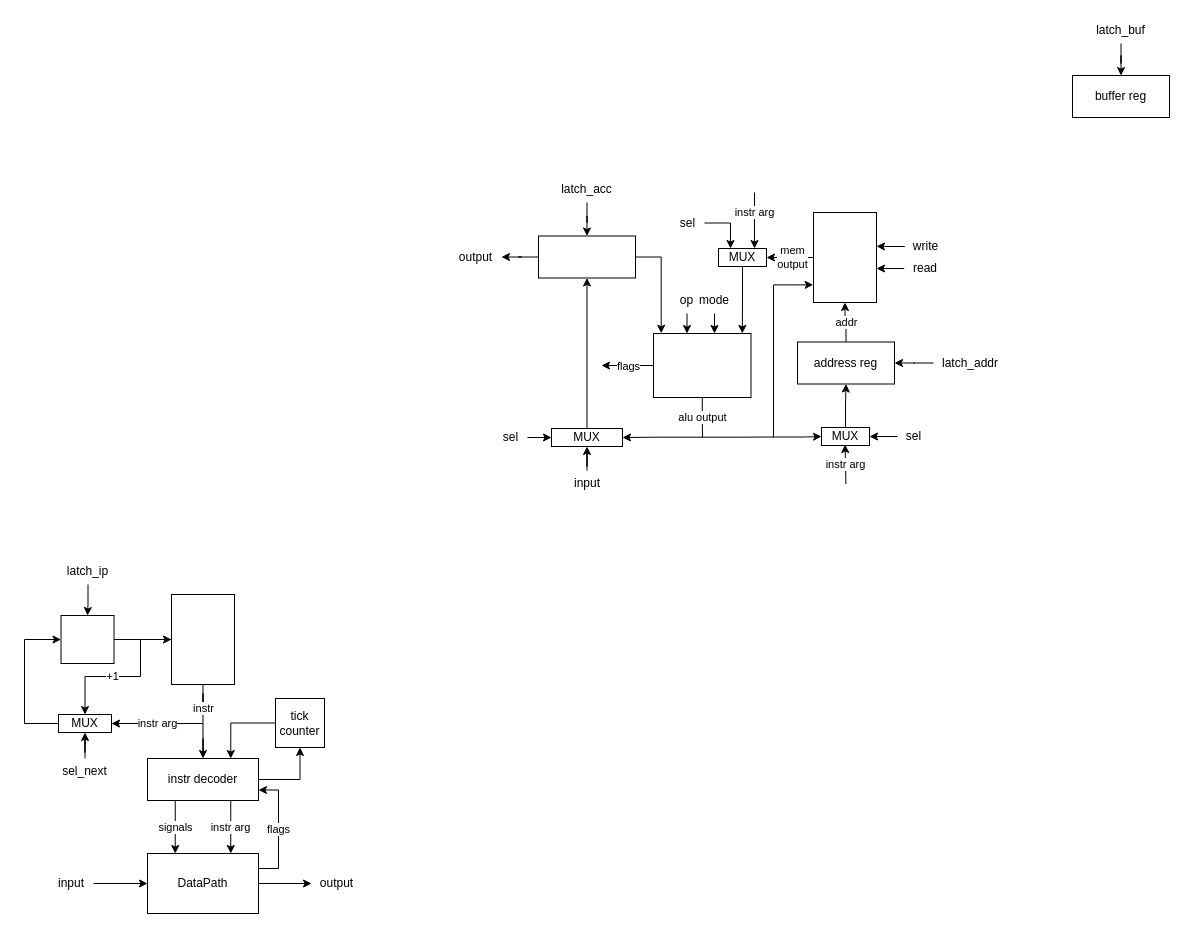
This 1187x931 diagram has some shape labels left out. The shapes that lost their labels are listed below. From the top down, each one's centre as x and y in pixels, then its label:
At (x=587, y=256): "accumulator".
At (x=844, y=257): "data memory".
At (x=701, y=365): "ALU".
At (x=87, y=639): "instr pointer".
At (x=202, y=639): "instr memory".
